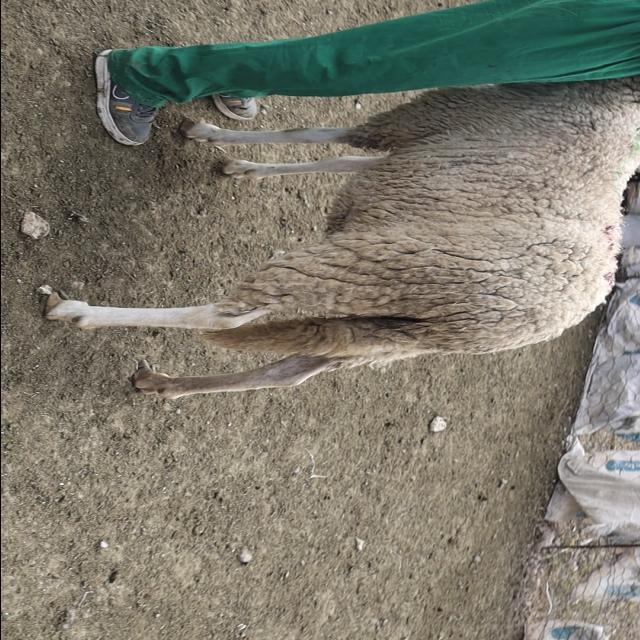Score_3: (44, 75, 640, 399)
